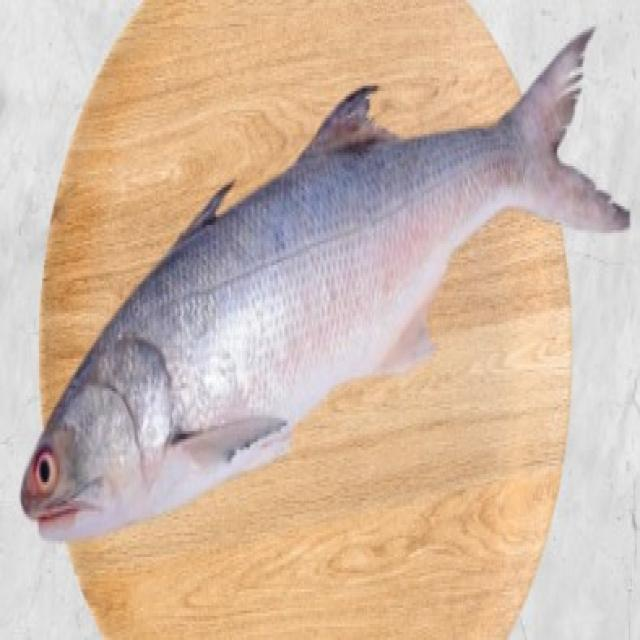Fourfinger-Threadfin: (12, 22, 637, 559)
